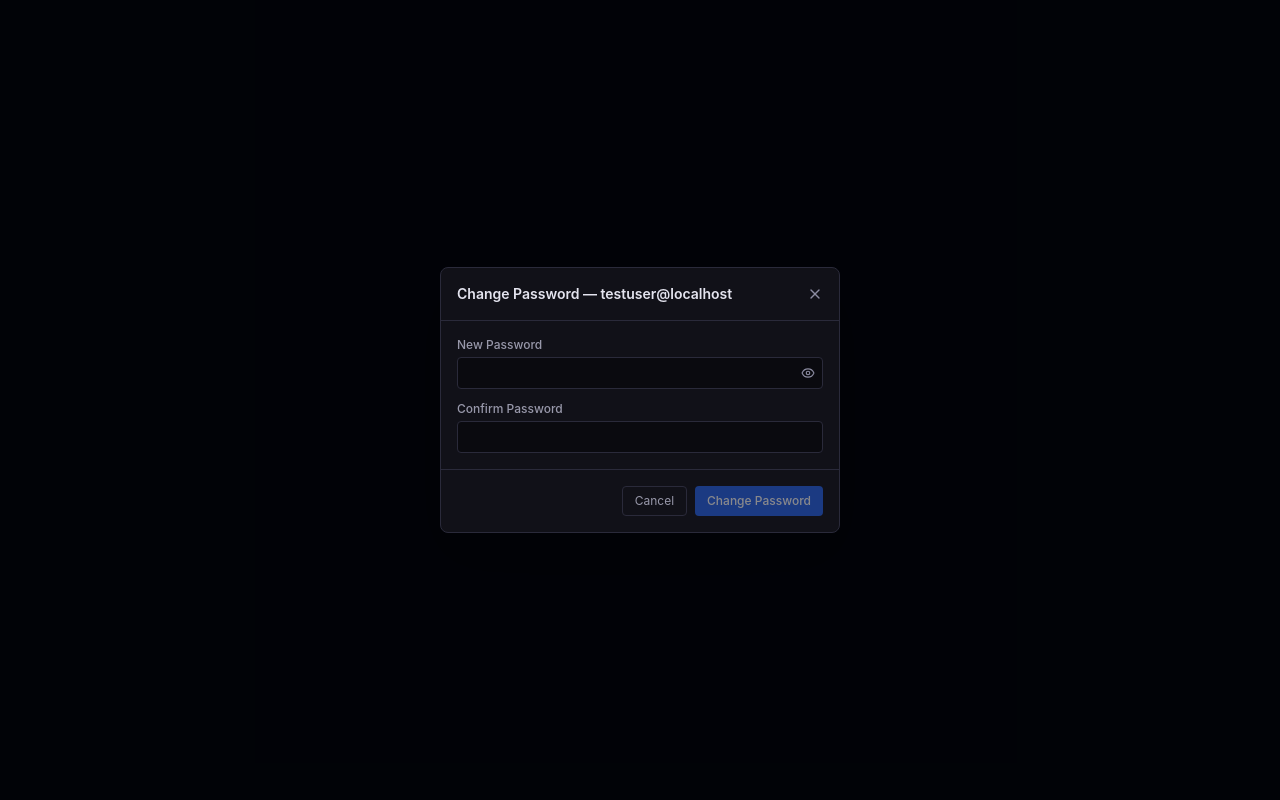
it: ChangePasswordDialog › enables button when passwords match and are non-empty
This screenshot has width=1280, height=800.
Type "pass123" into the password field below "New Password".
click(640, 373); type("pass123")  # box [457, 357, 823, 389]
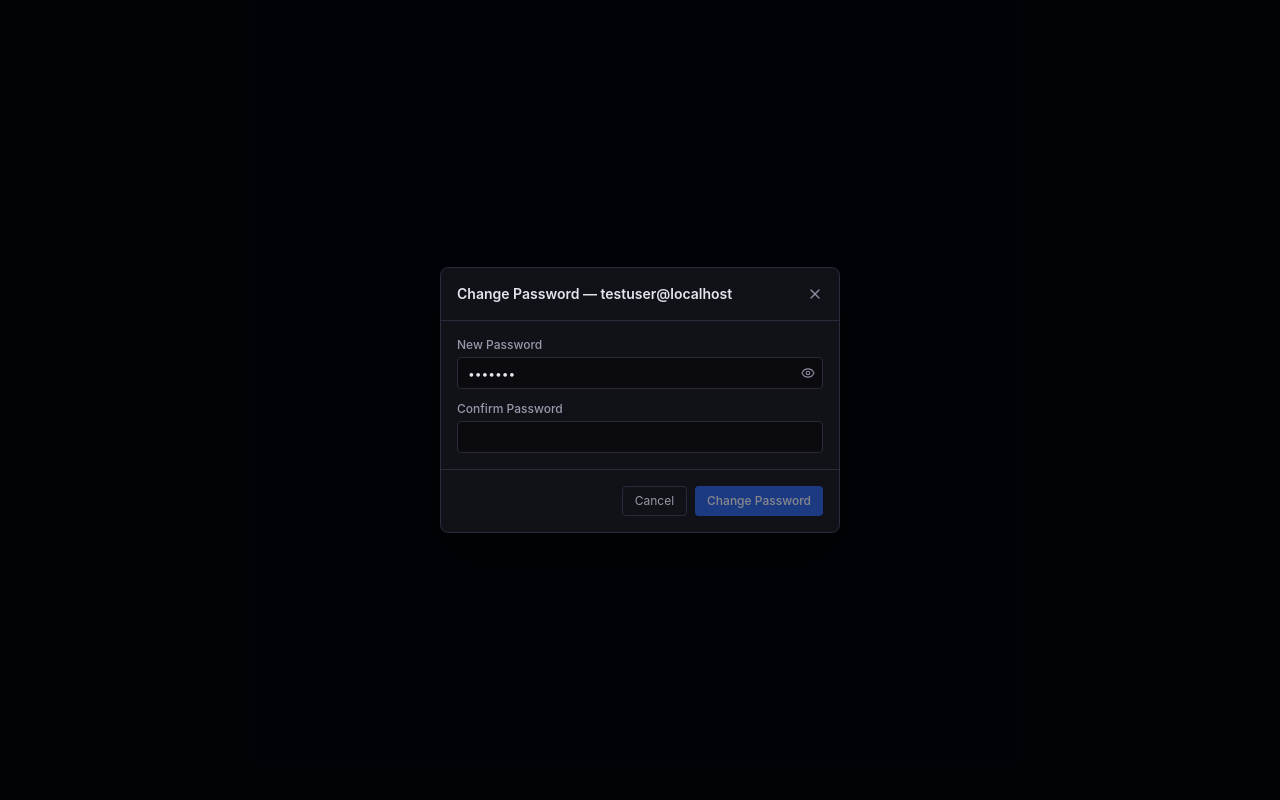
Type "pass123" into the password field below "Confirm Password".
click(640, 437); type("pass123")  # box [457, 421, 823, 453]
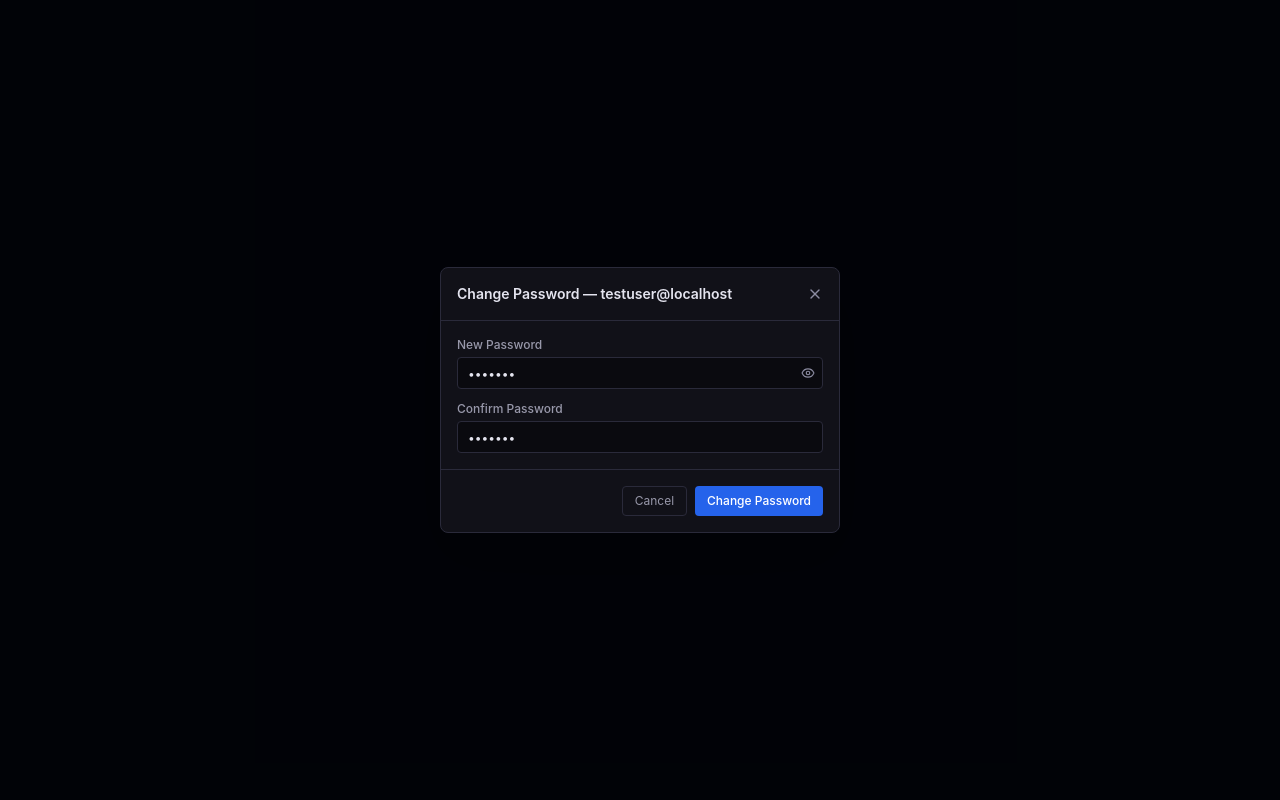
Check: the button "Change Password" is enabled, box [695, 486, 823, 516]
